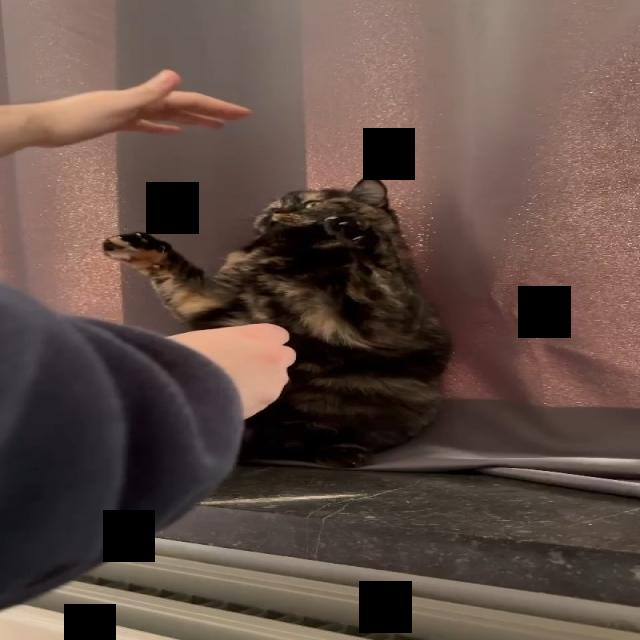authorized: (100, 173, 455, 469)
